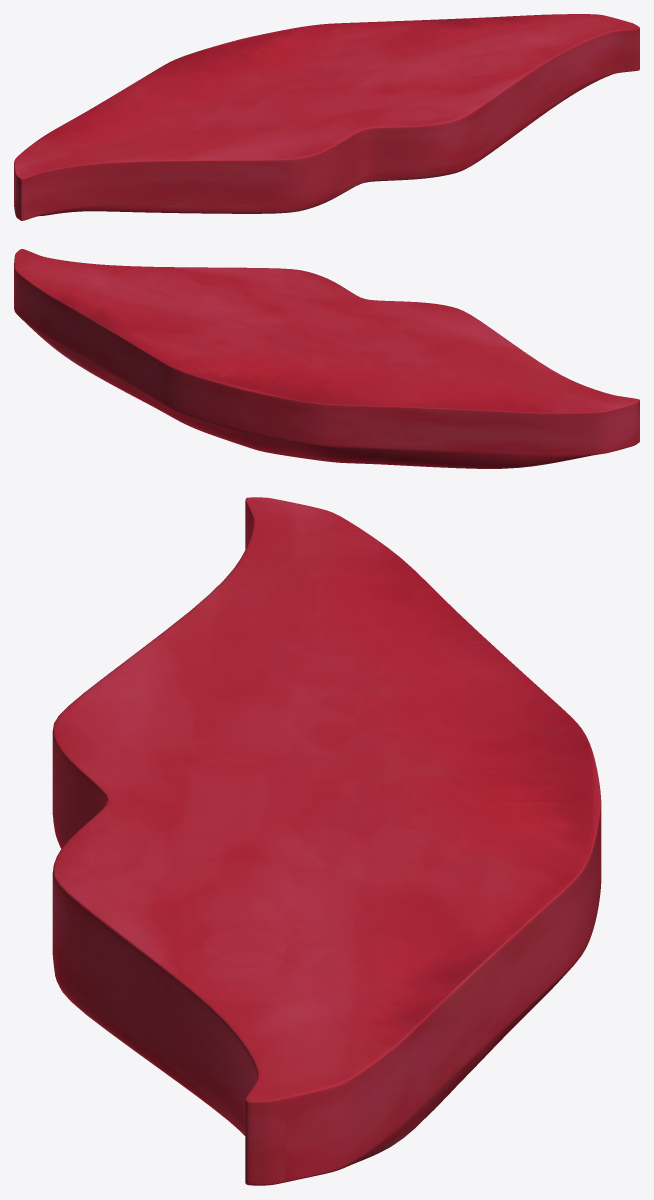
The model's file is 12191_lips_v1_L3.obj.
3 views of the same model, one above another, from view 1: azimuth 30°, elevation 25°; view 2: azimuth 150°, elevation 25°; view 3: azimuth 270°, elevation 25° (orthographic). The views are drawn at different scales.
Visible parts, largest first — view 1: 12191_lips_v1; view 2: 12191_lips_v1; view 3: 12191_lips_v1.
Part boxes in pixels (x1,y1,x2,y2): 12191_lips_v1: (14,14,639,220); 12191_lips_v1: (14,249,639,468); 12191_lips_v1: (52,497,601,1185).
Bounding box in the file's own units: 7.64 × 1.05 × 2.93.
Materials: 1 (1 with a texture image).
